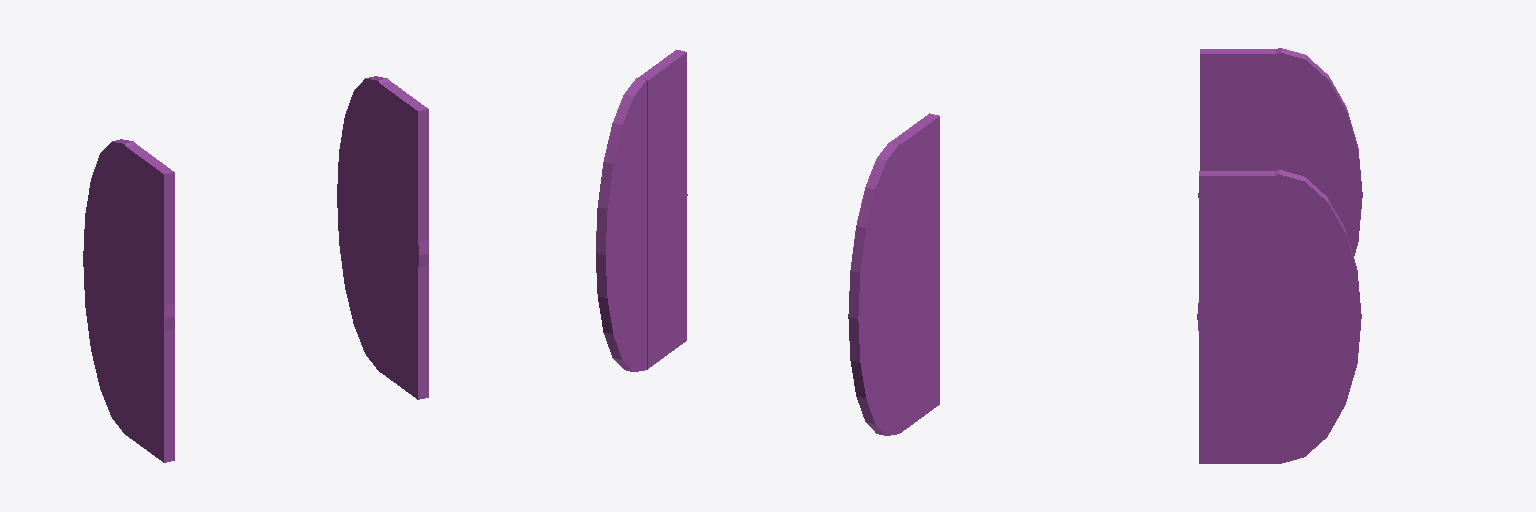
Rendered from blind.obj.
The picture shows the model from 3 angles: view 1: azimuth 30°, elevation 25°; view 2: azimuth 150°, elevation 25°; view 3: azimuth 270°, elevation 25°; orthographic projection.
Parts seen in each view (by area): view 1: pCylinder11, pCylinder12; view 2: pCylinder12, pCylinder11; view 3: pCylinder11, pCylinder12.
Boxes of the visible parts, box(x1,y1,x2,y2) form: pCylinder11: box(337, 76, 428, 399); pCylinder12: box(83, 139, 174, 462); pCylinder12: box(848, 113, 939, 435); pCylinder11: box(596, 50, 687, 371); pCylinder11: box(1197, 170, 1361, 463); pCylinder12: box(1198, 48, 1362, 255).
Bounding box in the file's own units: 4.22 × 4.46 × 2.29.